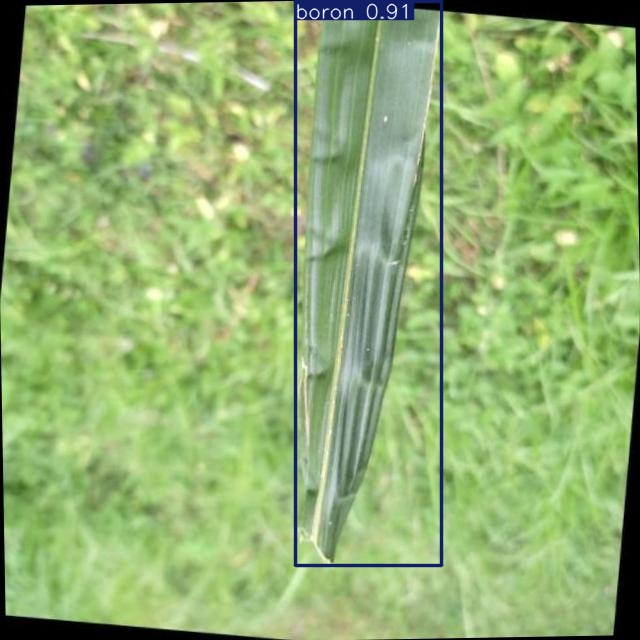nitrogen: (295, 1, 442, 565)
